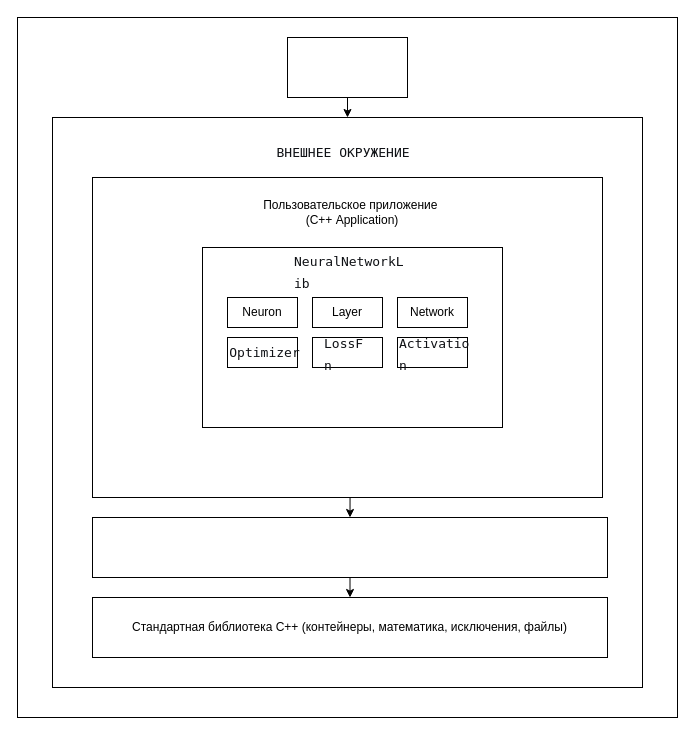
Image size: 695x735. Some labels were removed from this diagram. The shapes that lost their labels are listed below. From the top down, each one's box as (x1, y1, x2, y2) in pixels, then its label:
(286, 36, 408, 98): Разработчик
(92, 516, 608, 578): Файловая система
